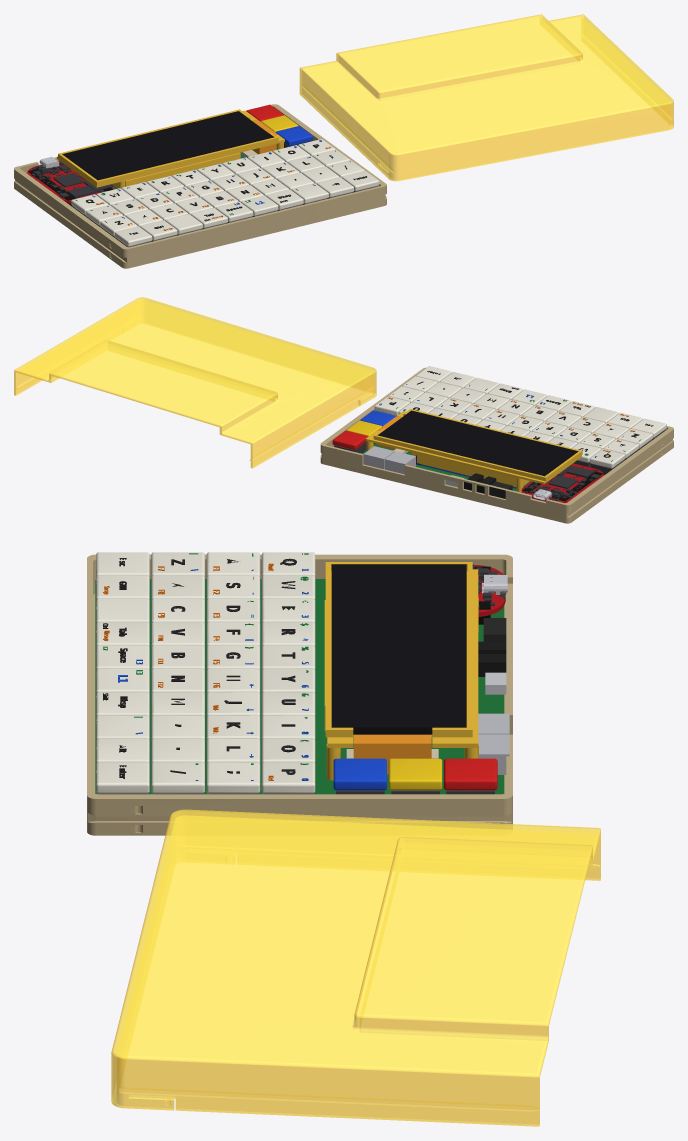
The model's file is beside_sand.glb.
3 renders of one model, top to bottom at view 1: azimuth 30°, elevation 25°; view 2: azimuth 150°, elevation 25°; view 3: azimuth 270°, elevation 25°, orthographic. The views are drawn at different scales.
Parts seen in each view (by area): view 1: Lid, Internals, Tray; view 2: Lid, Internals, Tray; view 3: Lid, Internals, Tray.
Boxes of the visible parts, x1,y1,x2,y2 form: Lid: (299, 14, 673, 181); Internals: (27, 104, 379, 247); Tray: (14, 104, 386, 268); Lid: (14, 297, 376, 468); Internals: (332, 366, 666, 502); Tray: (320, 367, 673, 523); Lid: (111, 809, 600, 1126); Internals: (95, 552, 509, 794); Tray: (87, 554, 512, 835).
Bounding box in the file's own units: 0.3903 × 0.0227 × 0.1583.
